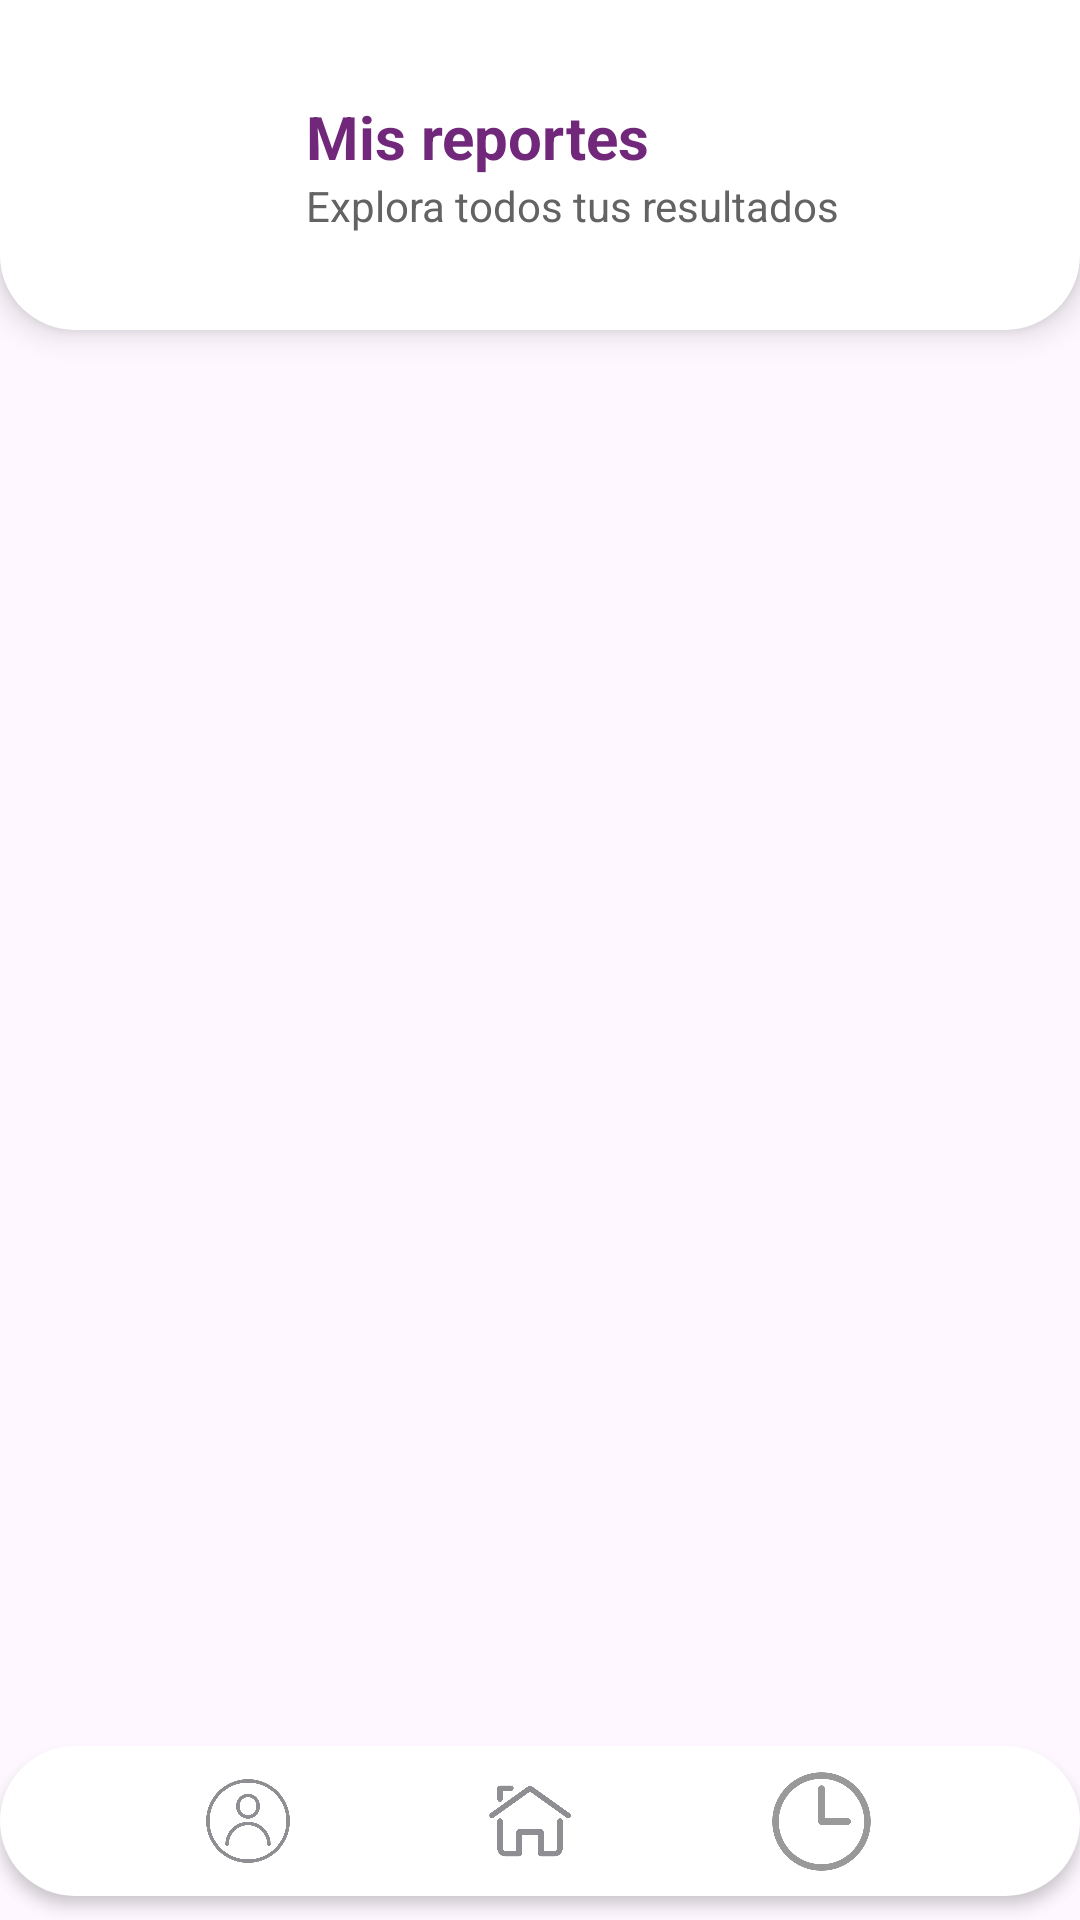

Icons on this 1080 × 1920 Android screen, each with the point to tap as point (x, y):
home: point (530, 1821)
reloj: point (821, 1821)
user: point (248, 1821)
